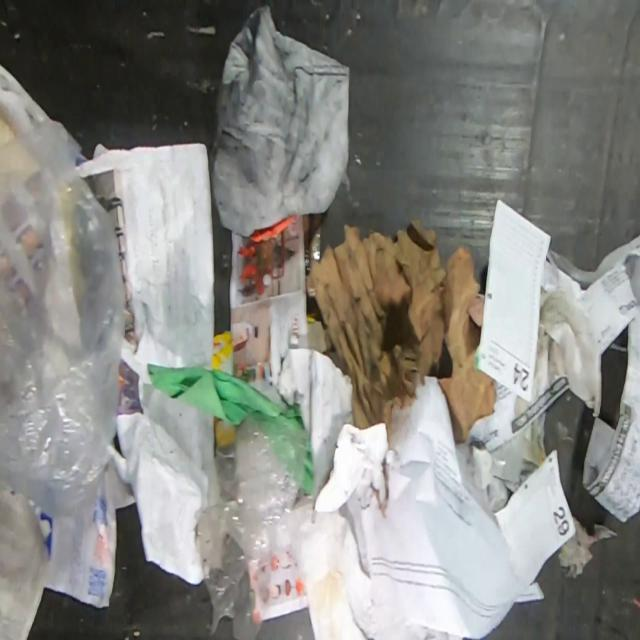soft_plastic: (0, 123, 126, 516), (191, 412, 309, 640)
